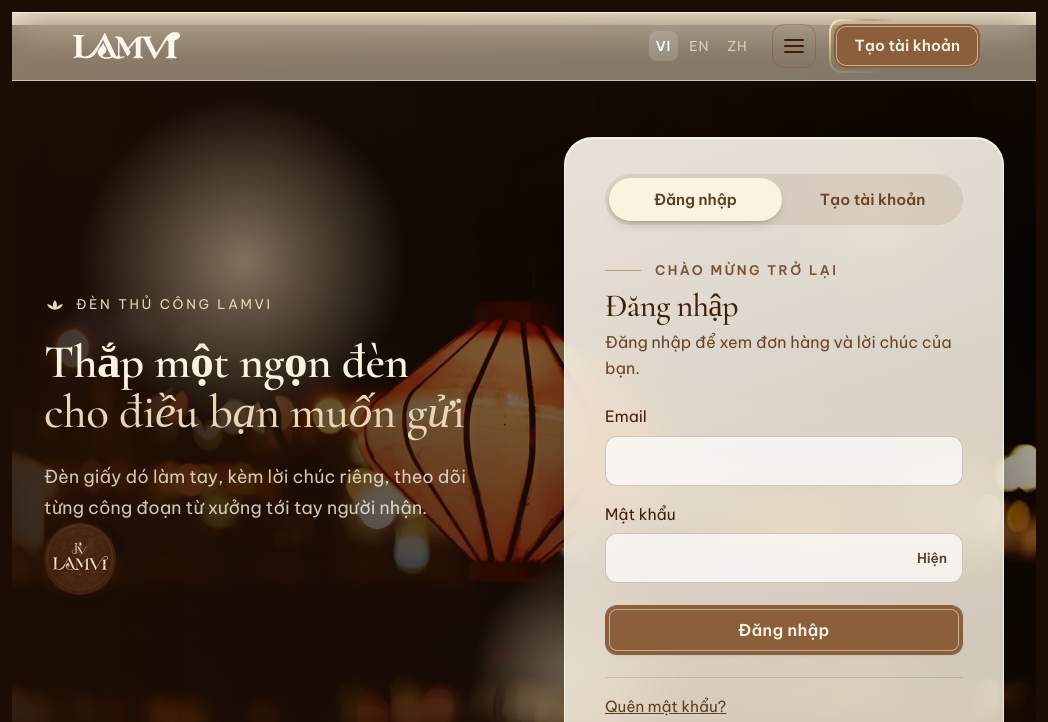
Test: PageTransition extra (T-45) › (1) cấp ứng dụng: /login -> /register -> /forgot-password, trang cũ biến mất
Later steps or results of the test are not shown.
Expected: the heading "Đăng nhập" is shown, [605, 286, 738, 325]
What coordinates should you click on to do the following:
click the 2nd link "Tạo tài khoản"
I would click on:
 (872, 200)
Its box is [820, 190, 925, 209].
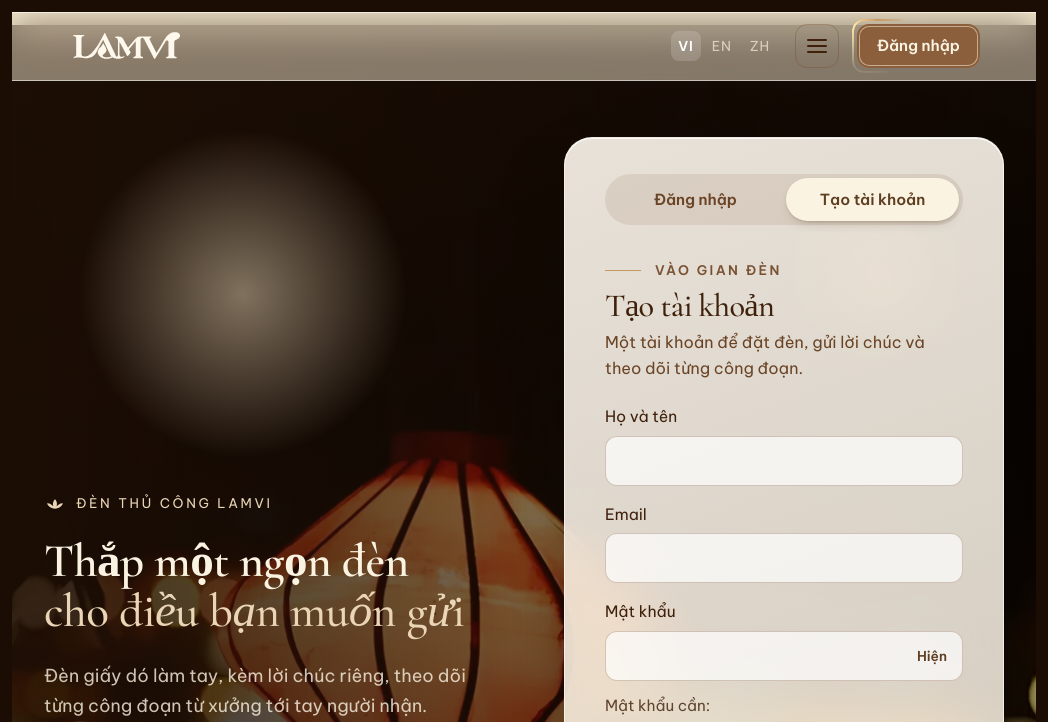
Expected: the heading "Tạo tài khoản" is shown, [605, 286, 774, 325]
